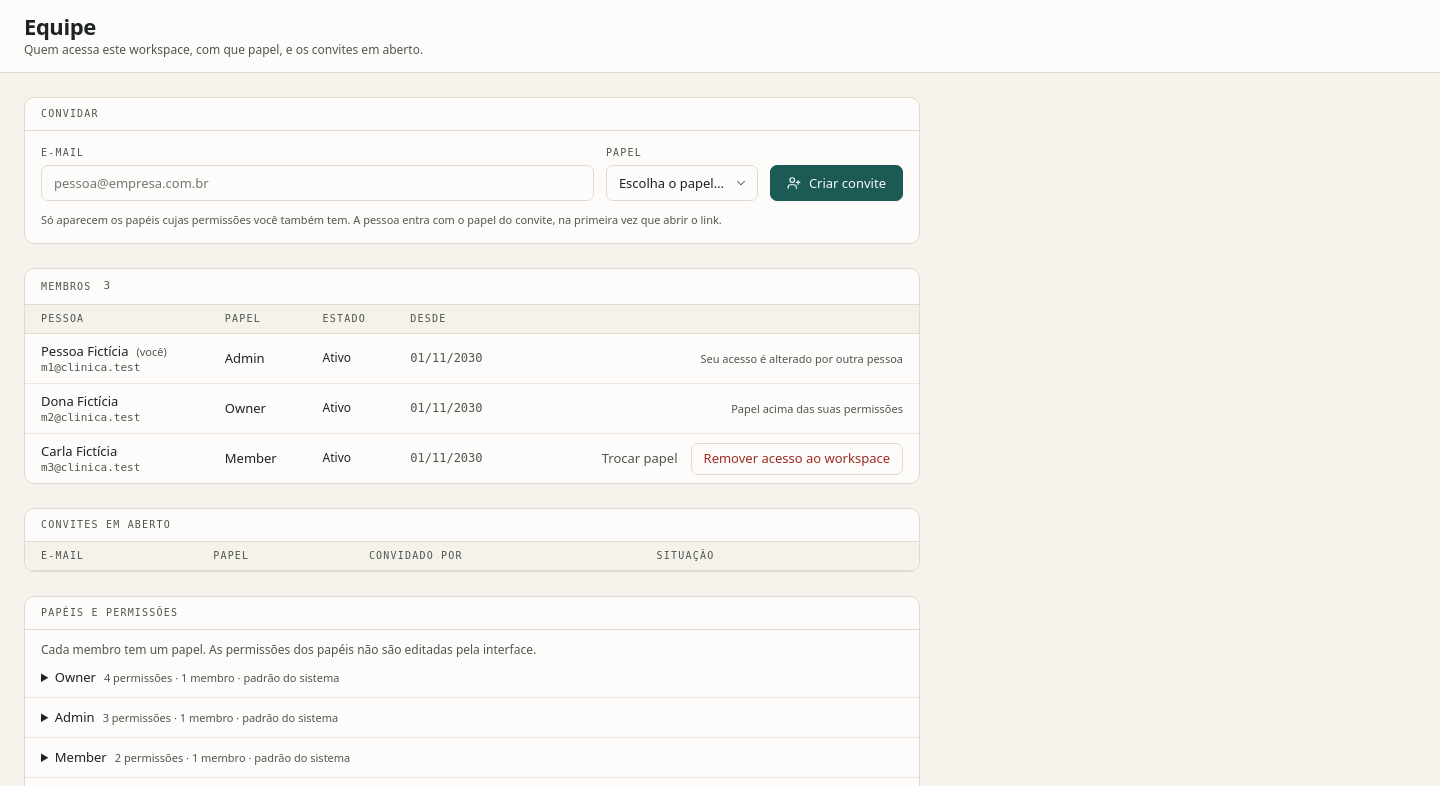
it: quem administra a equipe › não convida quem já é membro: nem chega ao servidor
Expected: the text "Carla Fictícia" is shown, [41,442,117,460]
Type "M3@clinica.test" into the field named "E-mail do convite" at x=317, y=183, box [41,165,594,201]
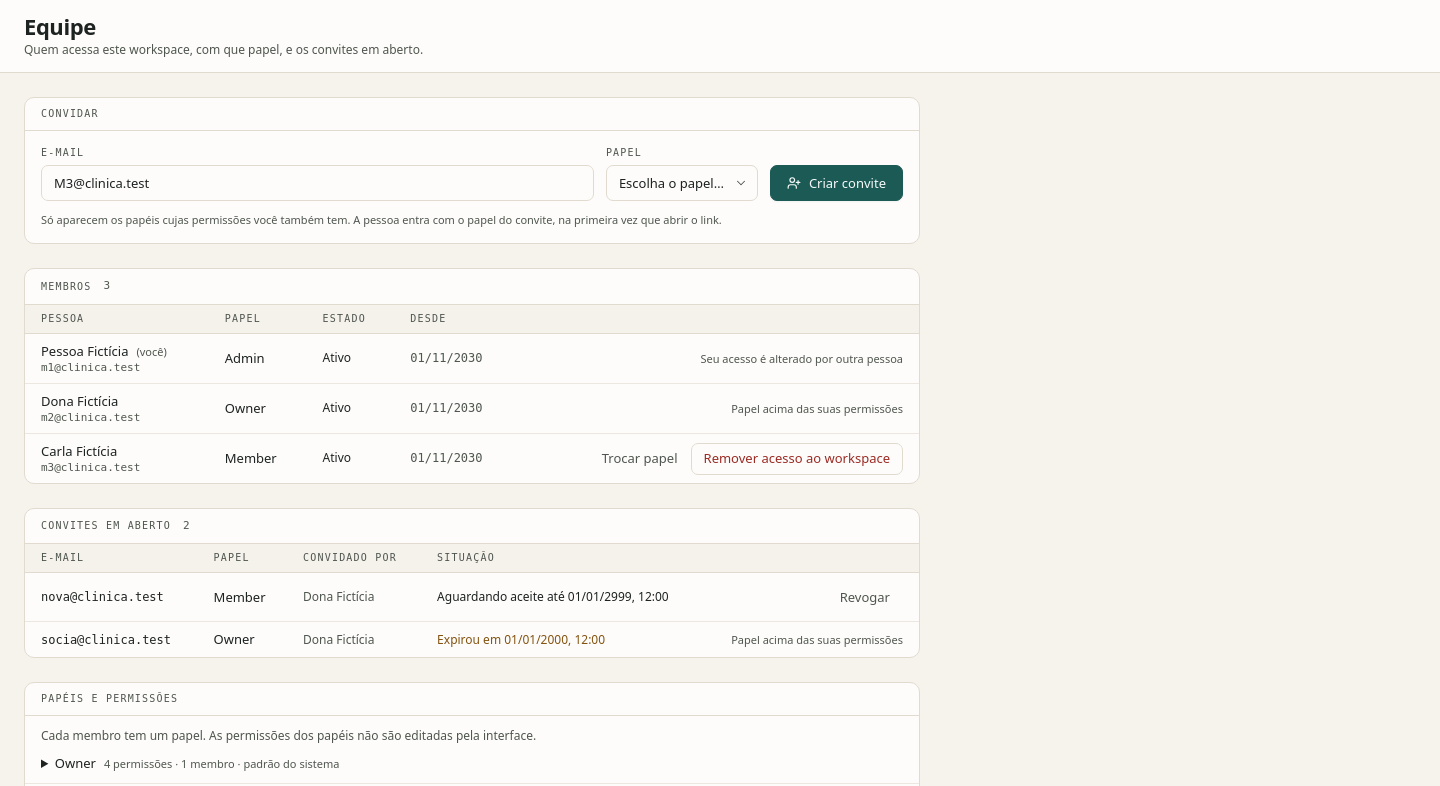
Select "Member" in the dropdown named "Papel do convite" at x=682, y=183, box [606,165,758,201]
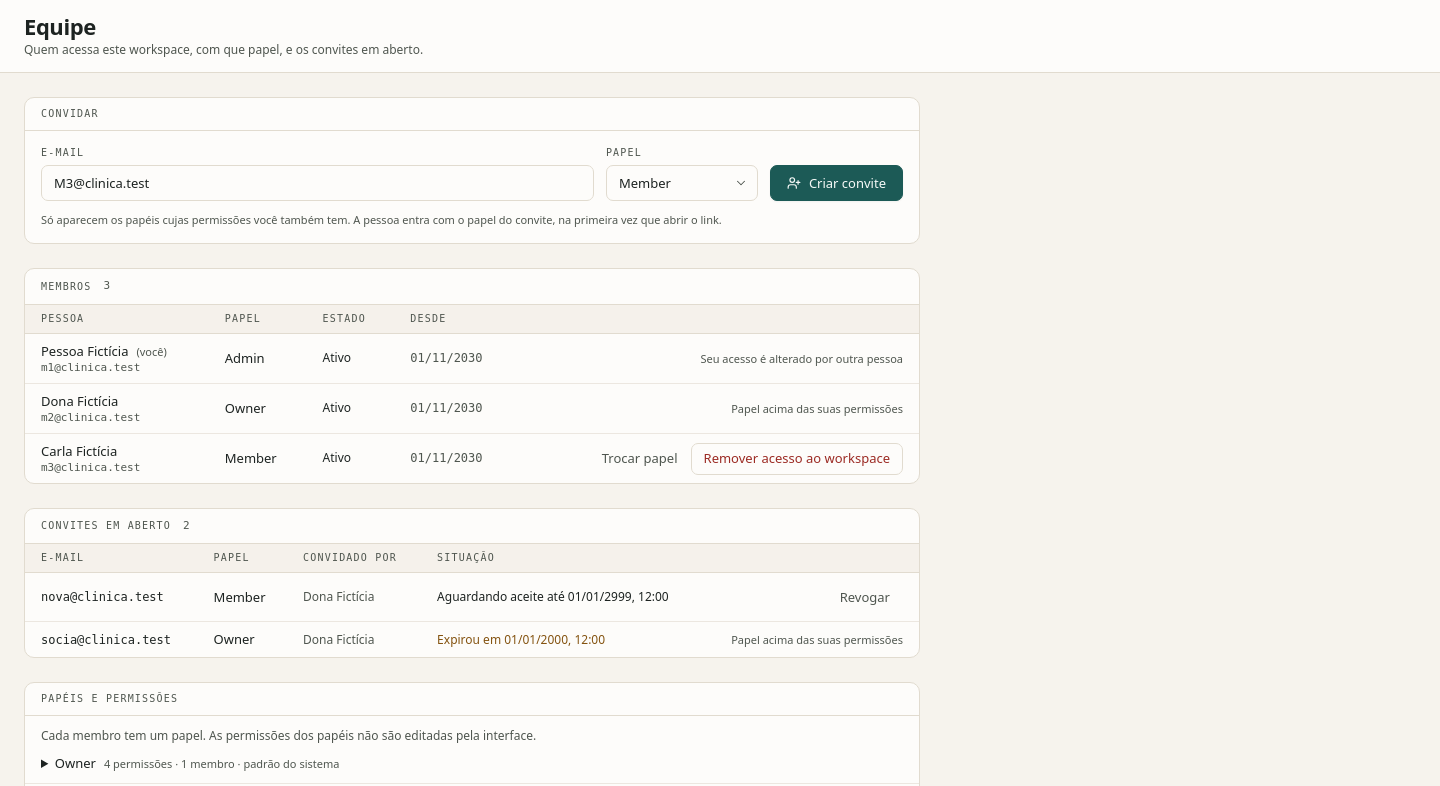
Click the button "Criar convite" at x=836, y=183, box [770,165,903,201]
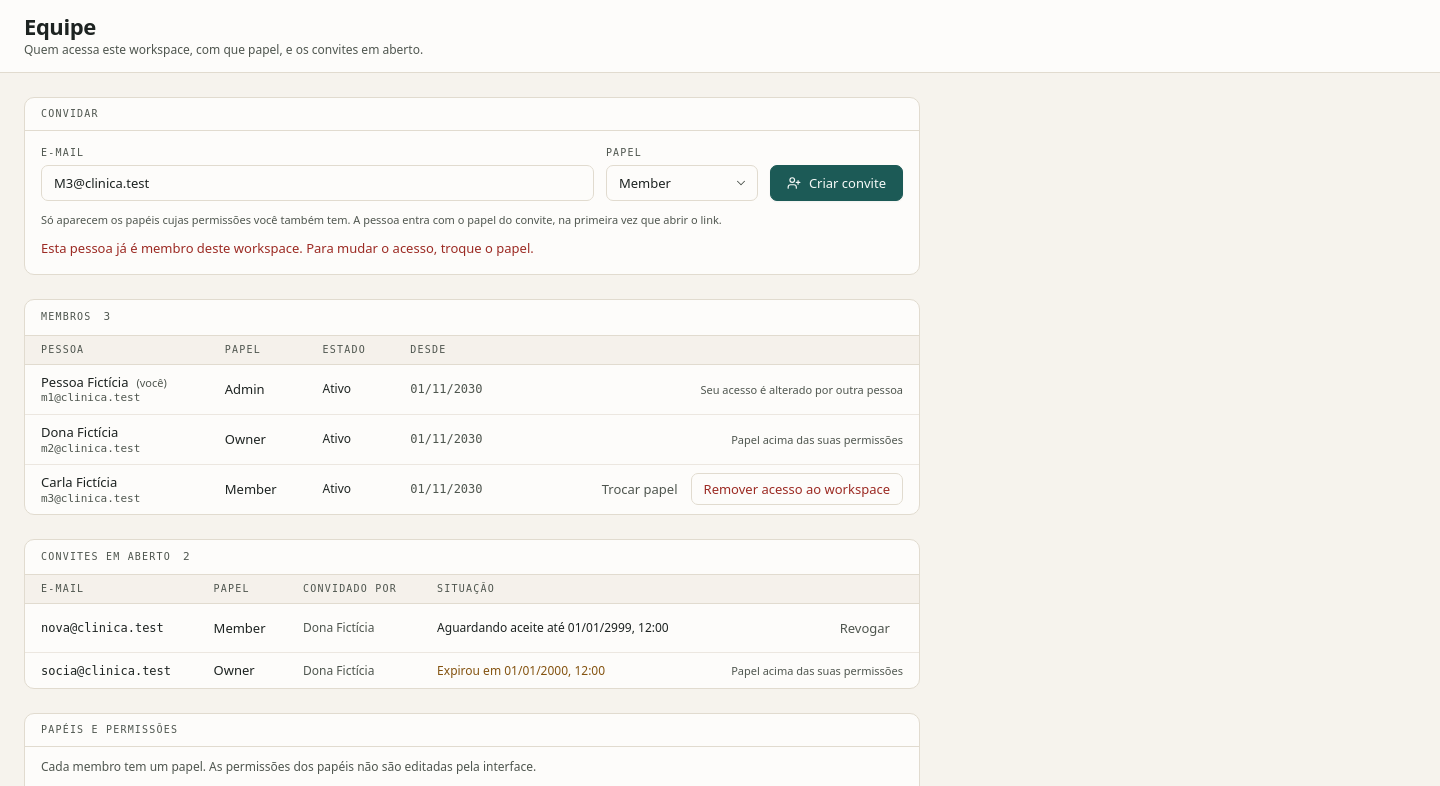
Result: the message shows "já é membro deste workspace" at [41,239,534,257]
